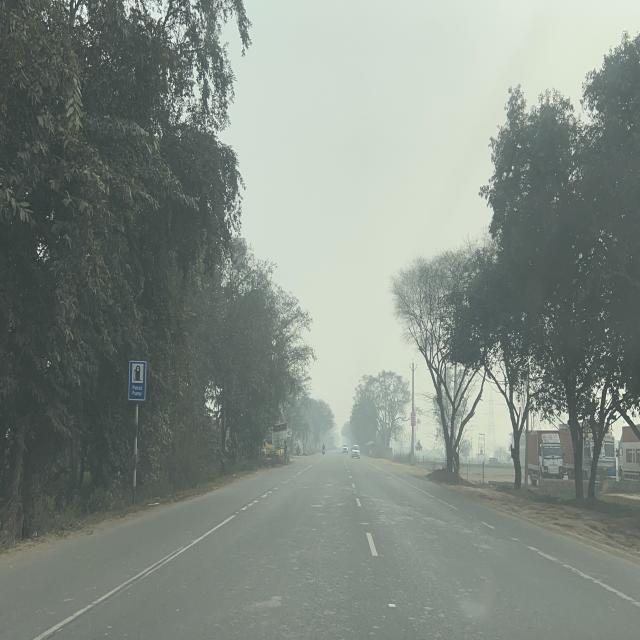INFORMATION: (128, 360, 147, 401)
